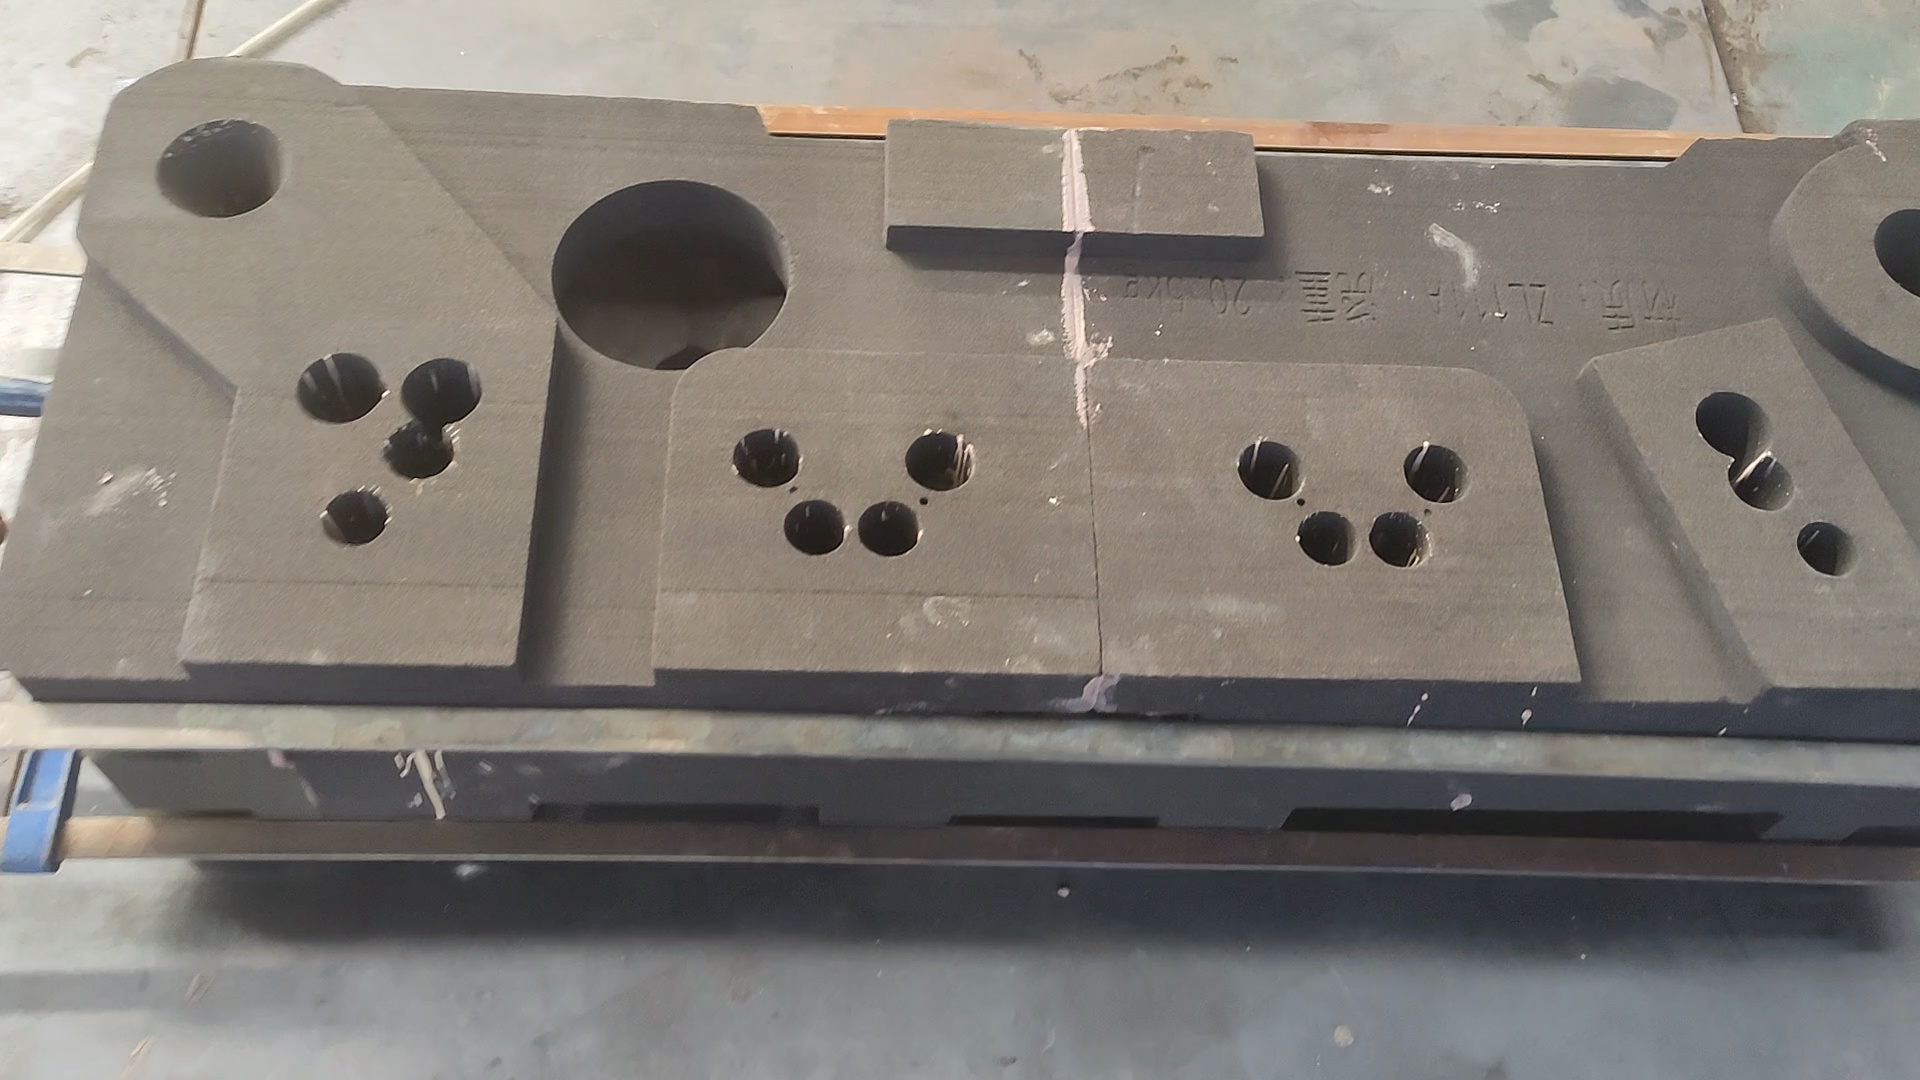pouring hole: (156, 120, 284, 216), (1873, 208, 1920, 301)
